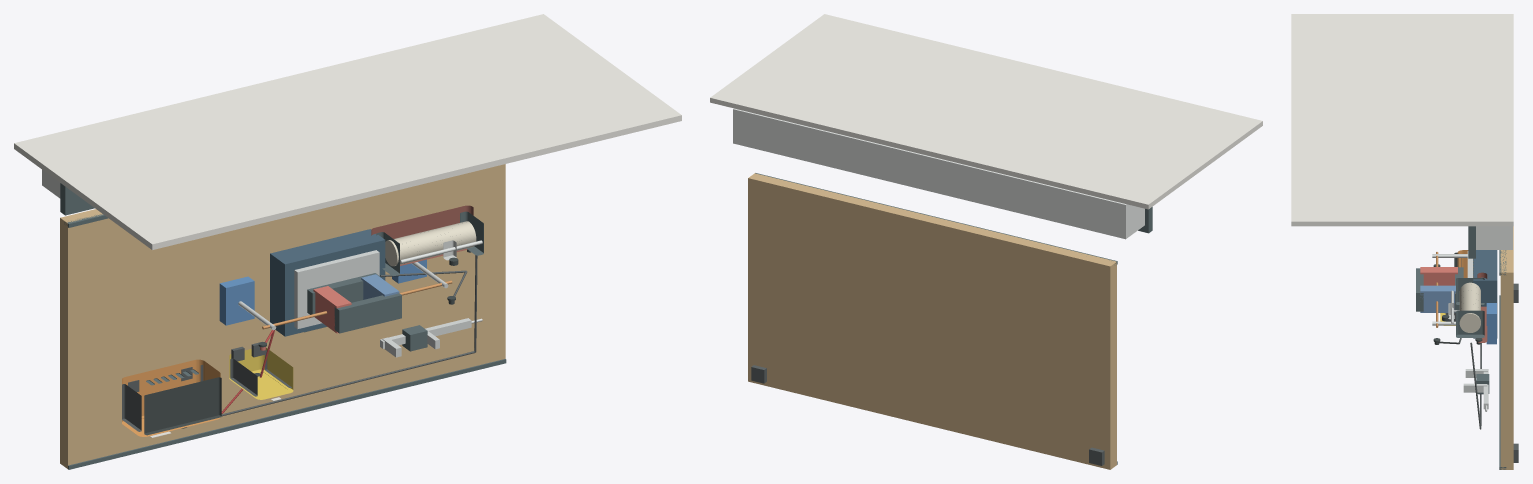
File: rp10-wire-balance.glb
The picture shows the model from 3 angles, left to right: view 1: azimuth 30°, elevation 25°; view 2: azimuth 150°, elevation 25°; view 3: azimuth 270°, elevation 25°; orthographic projection. The views are drawn at different scales.
Visible parts, largest first — view 1: Laboratory background wall, Laboratory bench laminate, Top-pan balance navy base, Low voltage DC power supply top shell, Top-pan balance stainless pan, Laboratory bench dark edge, Variable resistor ceramic former, Low voltage DC power supply, Magnet top yoke, Ammeter yellow case, Variable resistor bakelite base, Wire support left blue base (+4 smaller); view 2: Laboratory bench laminate, Laboratory background wall, Laboratory background cabinet carcass; view 3: Laboratory background wall, Laboratory bench laminate, Top-pan balance navy base, Variable resistor ceramic former, Laboratory background cabinet carcass, Magnet south pole, Magnet north pole, Variable resistor right end cheek, Wire support right blue base, Laboratory bench dark edge, Magnet top yoke, Laboratory background worktop.
Part boxes in pixels (bbox=[...]): Laboratory background wall: bbox=[14, 14, 681, 249]; Laboratory bench laminate: bbox=[60, 164, 505, 468]; Top-pan balance navy base: bbox=[270, 229, 385, 336]; Low voltage DC power supply top shell: bbox=[144, 377, 221, 435]; Top-pan balance stainless pan: bbox=[294, 250, 379, 329]; Laboratory bench dark edge: bbox=[68, 359, 506, 469]; Variable resistor ceramic former: bbox=[385, 221, 476, 266]; Low voltage DC power supply: bbox=[122, 359, 220, 436]; Magnet top yoke: bbox=[334, 293, 401, 333]; Ammeter yellow case: bbox=[229, 348, 293, 399]; Variable resistor bakelite base: bbox=[371, 205, 473, 265]; Wire support left blue base: bbox=[219, 276, 254, 325]; Laboratory bench laminate: bbox=[748, 173, 1116, 469]; Laboratory background wall: bbox=[710, 14, 1262, 209]; Laboratory background cabinet carcass: bbox=[733, 108, 1144, 239]; Laboratory background wall: bbox=[1291, 14, 1513, 226]; Laboratory bench laminate: bbox=[1500, 226, 1513, 469]; Top-pan balance navy base: bbox=[1473, 250, 1497, 338]; Variable resistor ceramic former: bbox=[1459, 282, 1480, 332]; Laboratory background cabinet carcass: bbox=[1476, 226, 1512, 249]; Magnet south pole: bbox=[1420, 285, 1455, 312]; Magnet north pole: bbox=[1420, 267, 1457, 285]; Variable resistor right end cheek: bbox=[1456, 310, 1484, 337]; Wire support right blue base: bbox=[1486, 303, 1496, 344]; Laboratory bench dark edge: bbox=[1499, 295, 1506, 469]; Magnet top yoke: bbox=[1416, 268, 1423, 311]; Laboratory background worktop: bbox=[1468, 226, 1475, 258].
Bounding box in the file's own units: 11.5 × 6.88 × 5.32.
